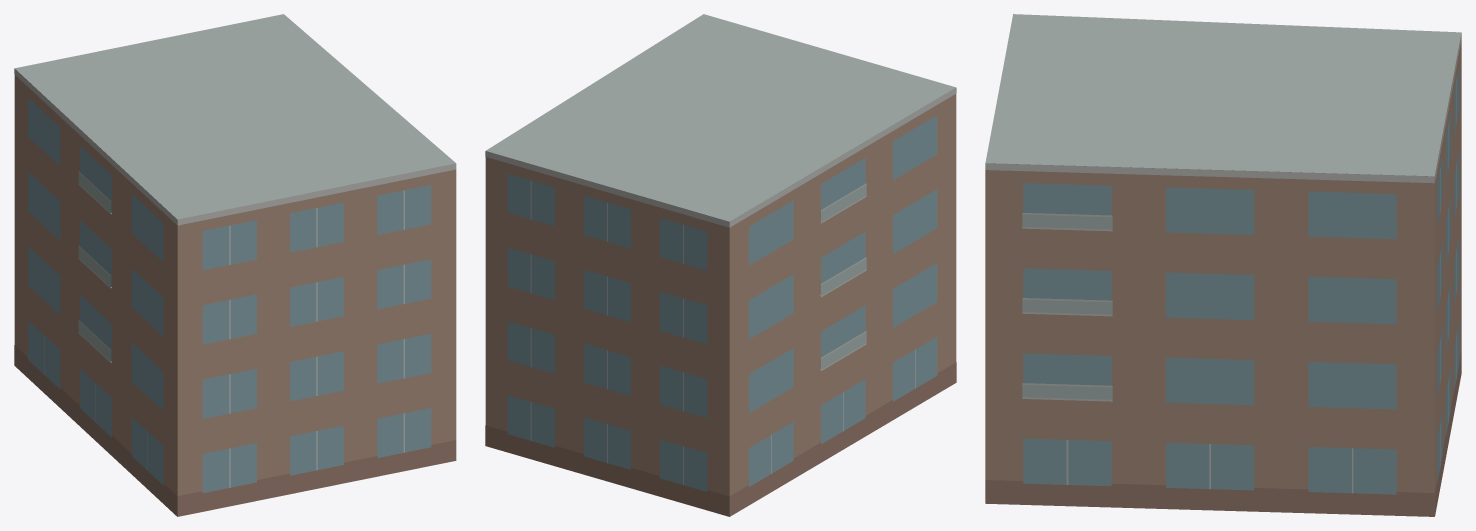
The model's file is survey-upis-32869556.glb.
3 views of the same model, side by side, from view 1: azimuth 30°, elevation 25°; view 2: azimuth 150°, elevation 25°; view 3: azimuth 270°, elevation 25° (orthographic). The views are drawn at different scales.
Visible parts, largest first — view 1: survey-upis-32869556.tmp; view 2: survey-upis-32869556.tmp; view 3: survey-upis-32869556.tmp.
Part boxes in pixels (left/top/right/bottom): survey-upis-32869556.tmp: left=14, top=14, right=456, bottom=516; survey-upis-32869556.tmp: left=485, top=14, right=956, bottom=516; survey-upis-32869556.tmp: left=985, top=14, right=1461, bottom=516.
Bounding box in the file's own units: 12.33 × 12.05 × 15.28.
